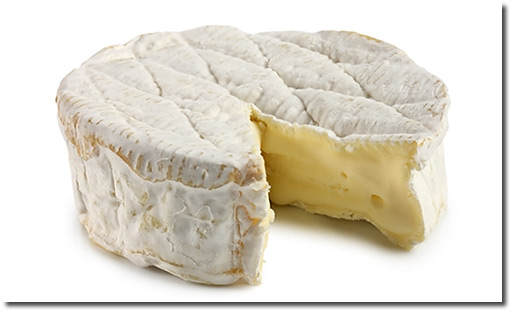camembert: (53, 25, 451, 290)
